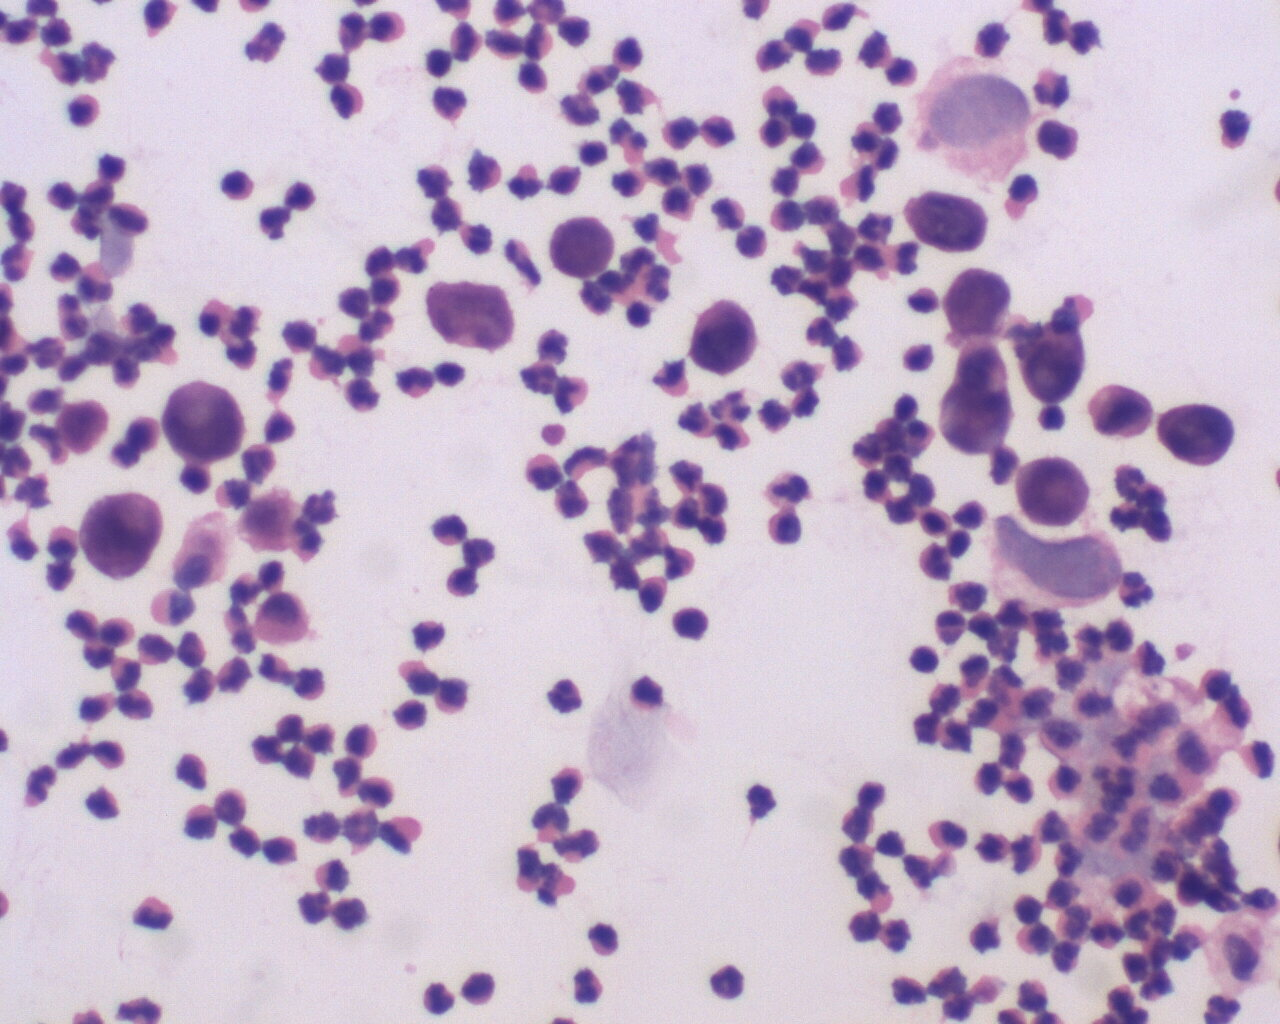ab: (74, 488, 164, 584), (161, 380, 245, 465), (1010, 450, 1091, 529), (1156, 396, 1237, 473), (905, 186, 990, 260), (1019, 317, 1088, 402), (690, 298, 760, 379), (938, 262, 1014, 338), (1086, 378, 1160, 447), (546, 215, 613, 280)
lymph: (906, 639, 944, 678), (672, 602, 708, 642)
meso: (254, 592, 313, 646)
neutro: (325, 76, 369, 124), (545, 675, 589, 720), (19, 762, 63, 807), (442, 18, 485, 64), (392, 362, 438, 403), (525, 451, 566, 493), (411, 615, 451, 657), (420, 976, 460, 1018), (1117, 567, 1156, 610), (706, 962, 749, 1000), (965, 915, 1006, 954), (799, 315, 838, 352), (1091, 913, 1128, 952), (571, 968, 603, 1007)
